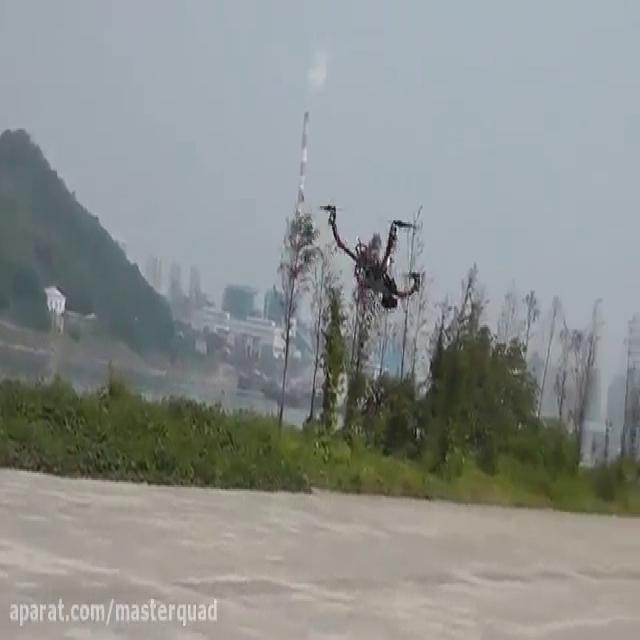drone: (317, 199, 424, 313)
